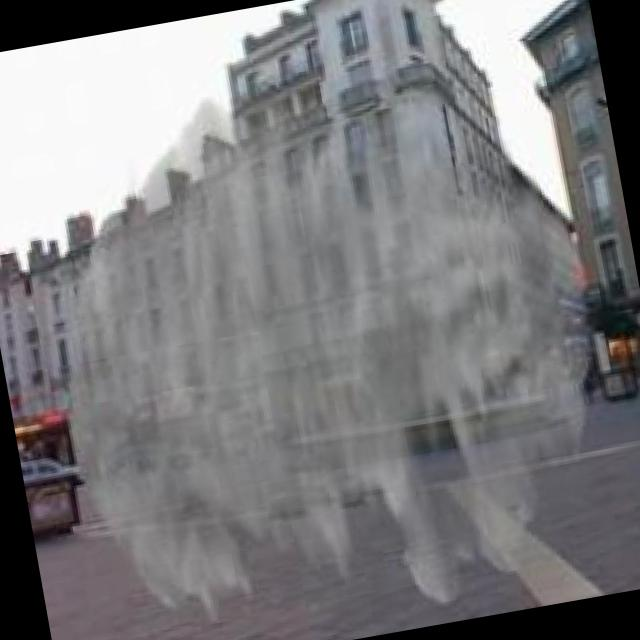Smoke: (15, 34, 637, 640)
